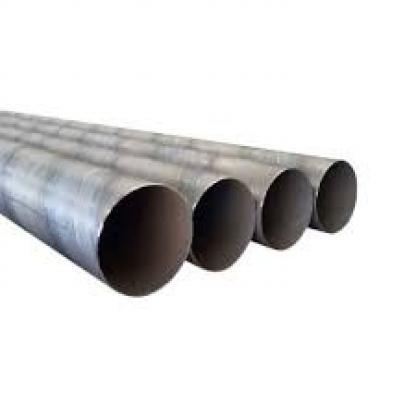pipe: (93, 180, 194, 300), (190, 176, 259, 274), (258, 166, 314, 254), (314, 158, 358, 236)
